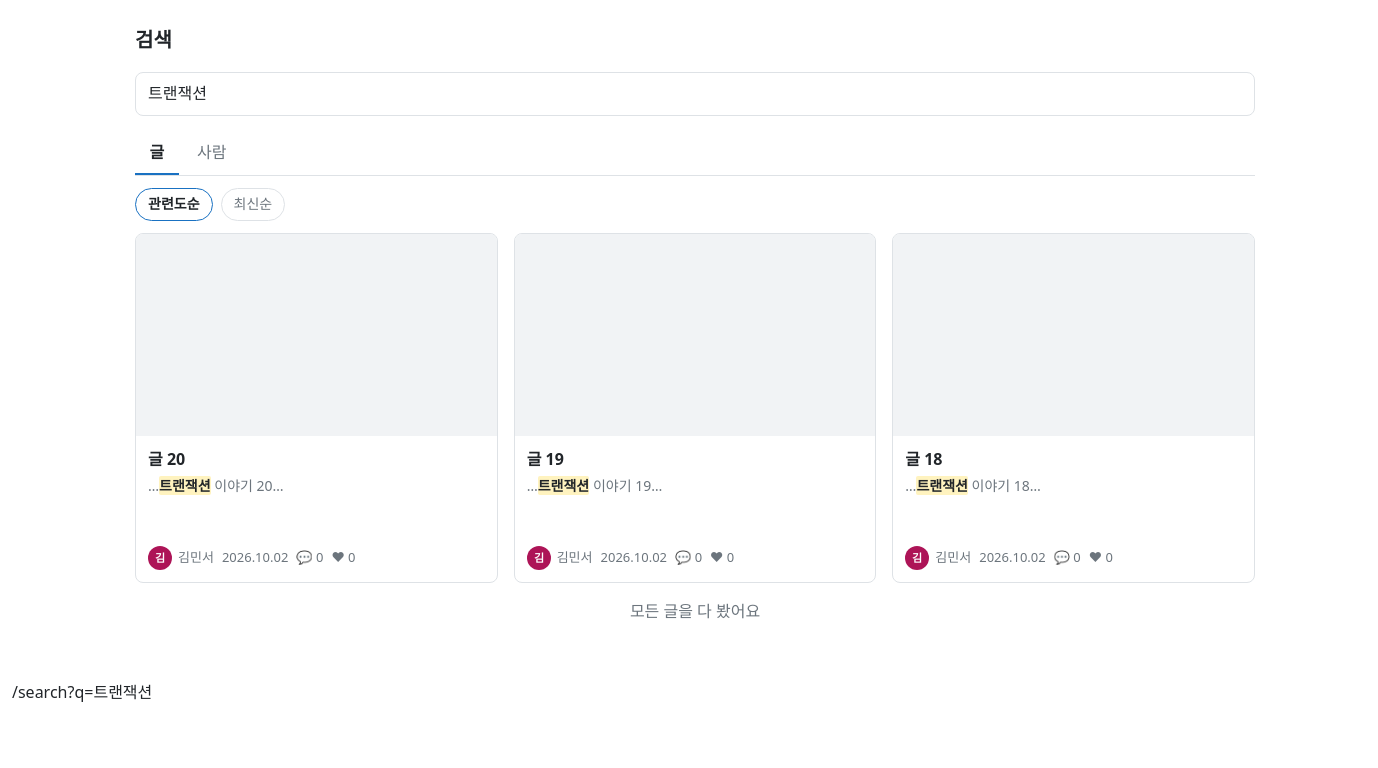
Test: SearchPage › [최신순]을 누르면 주소에 sort=latest를 두고 처음부터 다시 부른다
This screenshot has width=1378, height=768.
Expected: the number of elements with test id "post-card" is 3, x1=135 y1=233 x2=498 y2=583; x1=514 y1=233 x2=876 y2=583; x1=892 y1=233 x2=1255 y2=583
Click the button "최신순" at (253, 204), box x1=220 y1=188 x2=285 y2=221
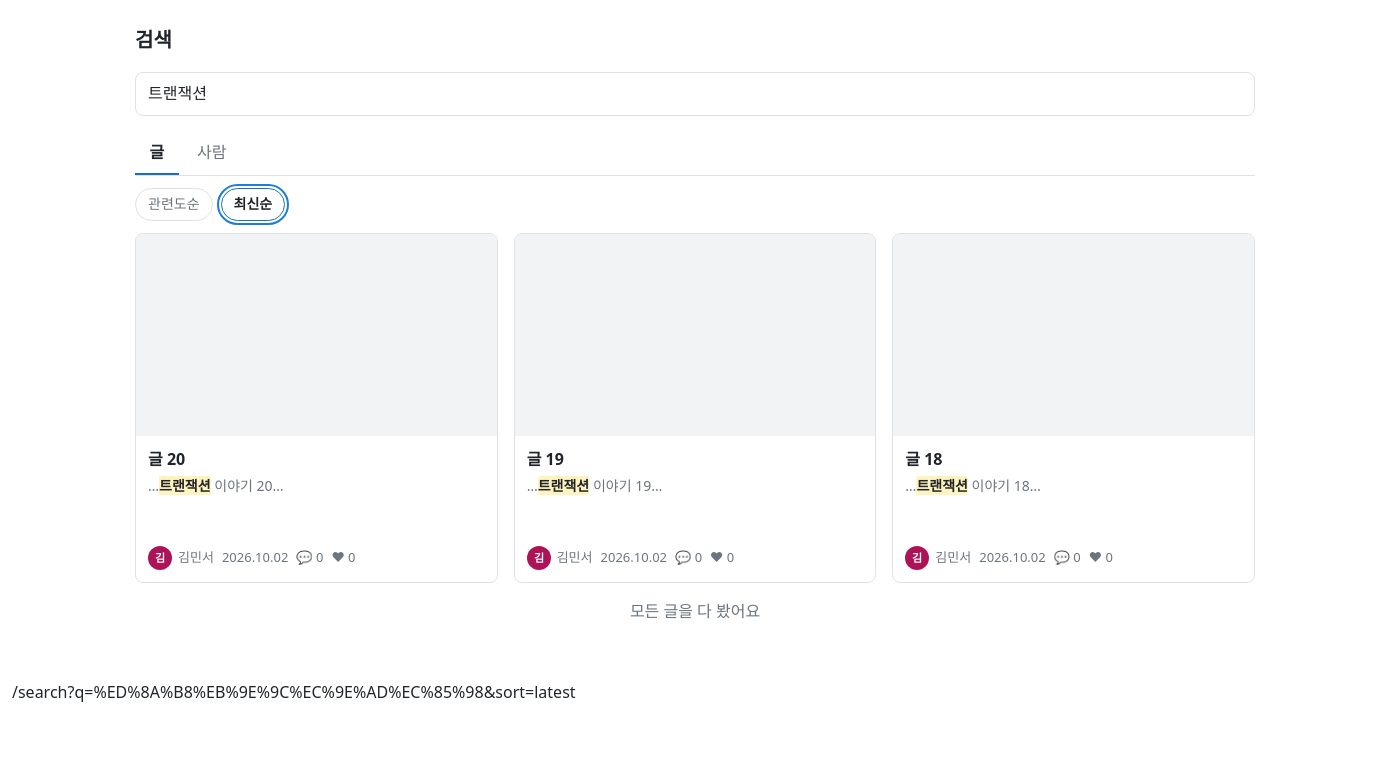
Result: the text with test id "where" shows "sort=latest" at x1=12 y1=681 x2=576 y2=703
